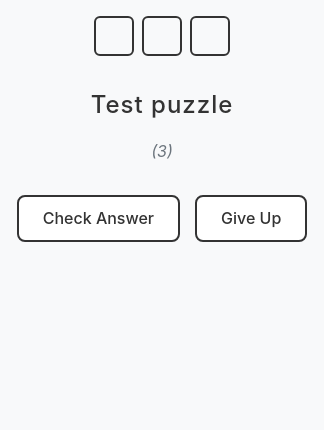
Scenario: CryptogramGame - Basic Functionality › disables buttons after giving up
The image size is (324, 430).
Click the button "Give Up" at (251, 219), box [195,195,307,242]
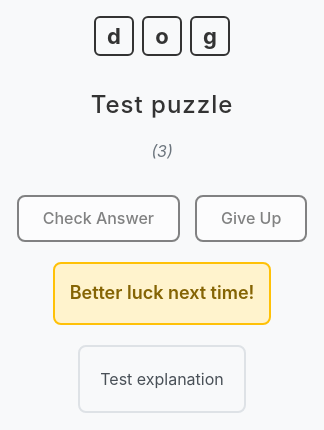
Now the button "Check Answer" is disabled, box [17,195,180,242]
Now the button "Give Up" is disabled, box [195,195,307,242]
